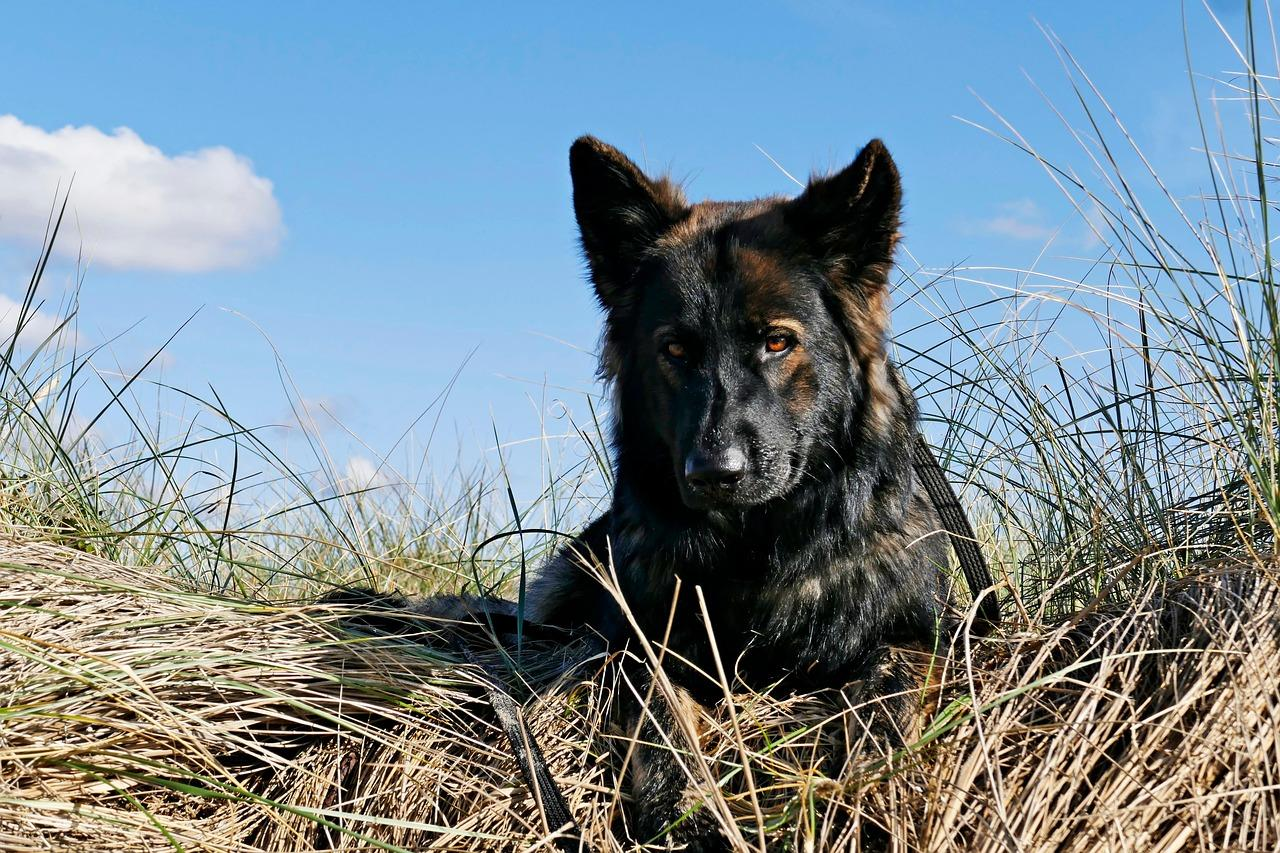german_shepherd: (546, 100, 919, 545)
